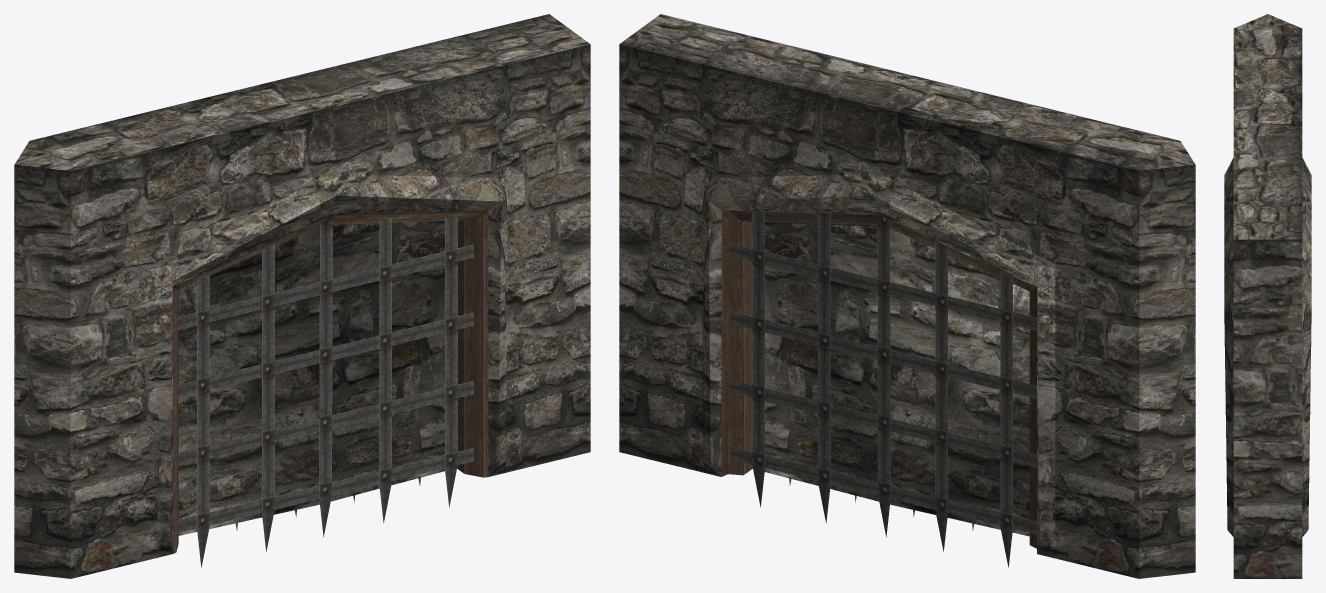
Rendered from PlainStoneWall_bars1_upper.dae.
The picture shows the model from 3 angles, left to right: view 1: azimuth 30°, elevation 25°; view 2: azimuth 150°, elevation 25°; view 3: azimuth 270°, elevation 25°; orthographic projection. The views are drawn at different scales.
Parts seen in each view (by area): view 1: StoneWallPlain3, portcullisParts3; view 2: StoneWallPlain3, portcullisParts4; view 3: StoneWallPlain3.
Boxes of the visible parts, <box> form: StoneWallPlain3: <box>14,14,590,578</box>; portcullisParts3: <box>177,217,473,567</box>; StoneWallPlain3: <box>619,14,1195,578</box>; portcullisParts4: <box>729,211,1036,567</box>; StoneWallPlain3: <box>1224,14,1311,578</box>.
Bounding box in the file's own units: 4.28 × 3.22 × 0.7003.
Materials: 2 (2 with a texture image).
